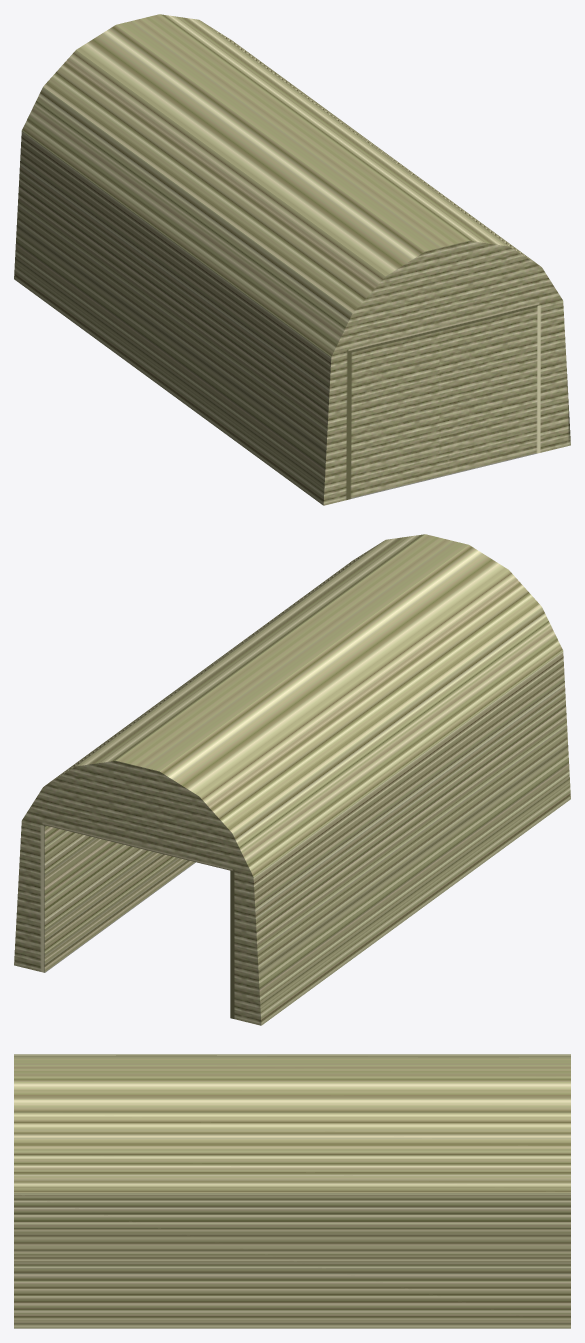
Rendered from Hanger.glb.
The picture shows the model from 3 angles, top to bottom: view 1: azimuth 30°, elevation 25°; view 2: azimuth 150°, elevation 25°; view 3: azimuth 270°, elevation 25°; orthographic projection. The views are drawn at different scales.
Visible parts, largest first — view 1: Hanger; view 2: Hanger; view 3: Hanger.
Boxes of the visible parts, bbox=[...] form: Hanger: bbox=[14, 14, 570, 505]; Hanger: bbox=[14, 534, 570, 1025]; Hanger: bbox=[14, 1054, 570, 1328].
Bounding box in the file's own units: 195 × 173 × 423.
1 material, 1 textured.
